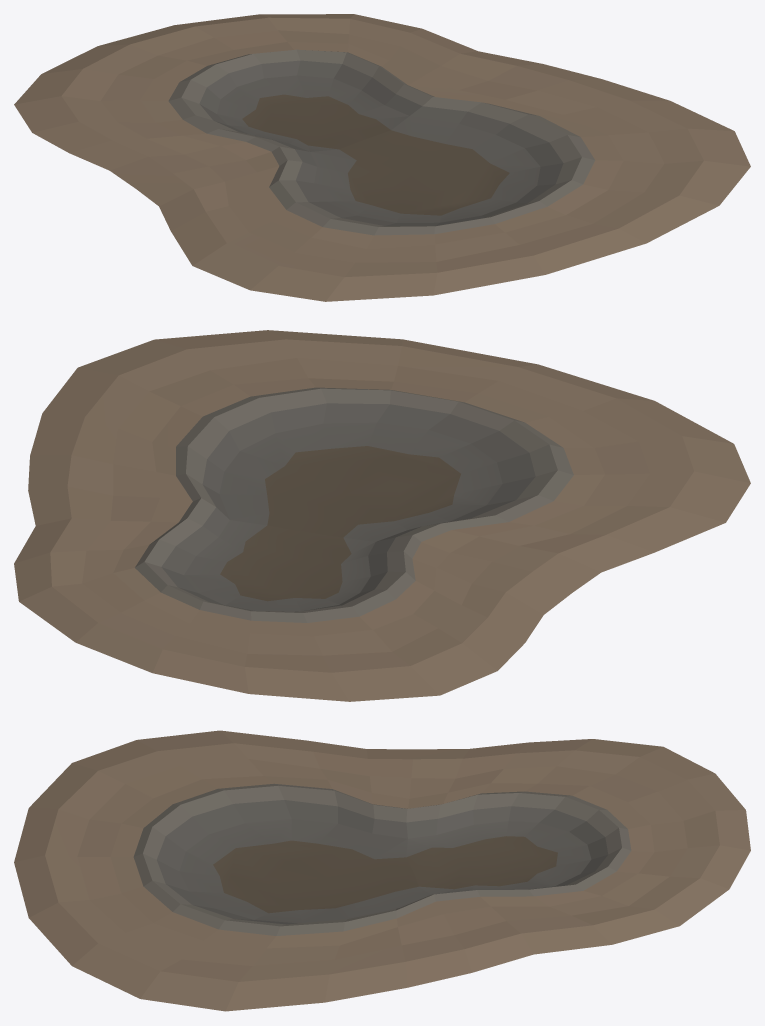
File: pond.glb
3 renders of one model, top to bottom at view 1: azimuth 30°, elevation 25°; view 2: azimuth 150°, elevation 25°; view 3: azimuth 270°, elevation 25°, orthographic. The views are drawn at different scales.
Visible parts, largest first — view 1: SM_Env_Park_Pond_01; view 2: SM_Env_Park_Pond_01; view 3: SM_Env_Park_Pond_01.
Part boxes in pixels (x1,y1,x2,y2): SM_Env_Park_Pond_01: (14, 14, 750, 301); SM_Env_Park_Pond_01: (14, 330, 750, 701); SM_Env_Park_Pond_01: (14, 730, 750, 1011).
Bounding box in the file's own units: 9.22 × 0.316 × 10.22.
Materials: 1 (1 with a texture image).
